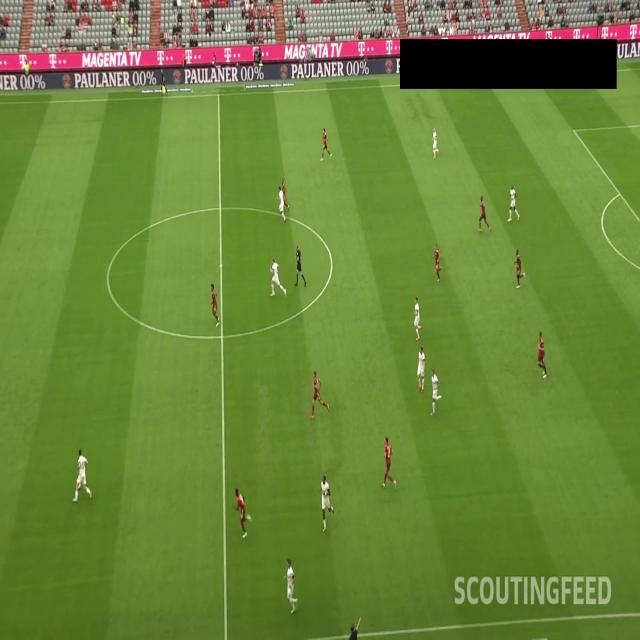ball: (76, 474, 83, 495)
player: (229, 483, 254, 543), (277, 558, 302, 614), (72, 444, 95, 503), (308, 365, 331, 421), (378, 431, 398, 490), (319, 474, 336, 534), (266, 256, 287, 300), (428, 369, 444, 416), (536, 328, 549, 382), (476, 192, 492, 235), (318, 122, 334, 162), (414, 343, 426, 393), (505, 182, 520, 222), (513, 246, 527, 288), (208, 280, 220, 328), (429, 244, 443, 284), (275, 184, 288, 223), (412, 297, 423, 340), (278, 173, 289, 211), (430, 124, 441, 159)
referee: (292, 242, 307, 290), (158, 66, 169, 98)
